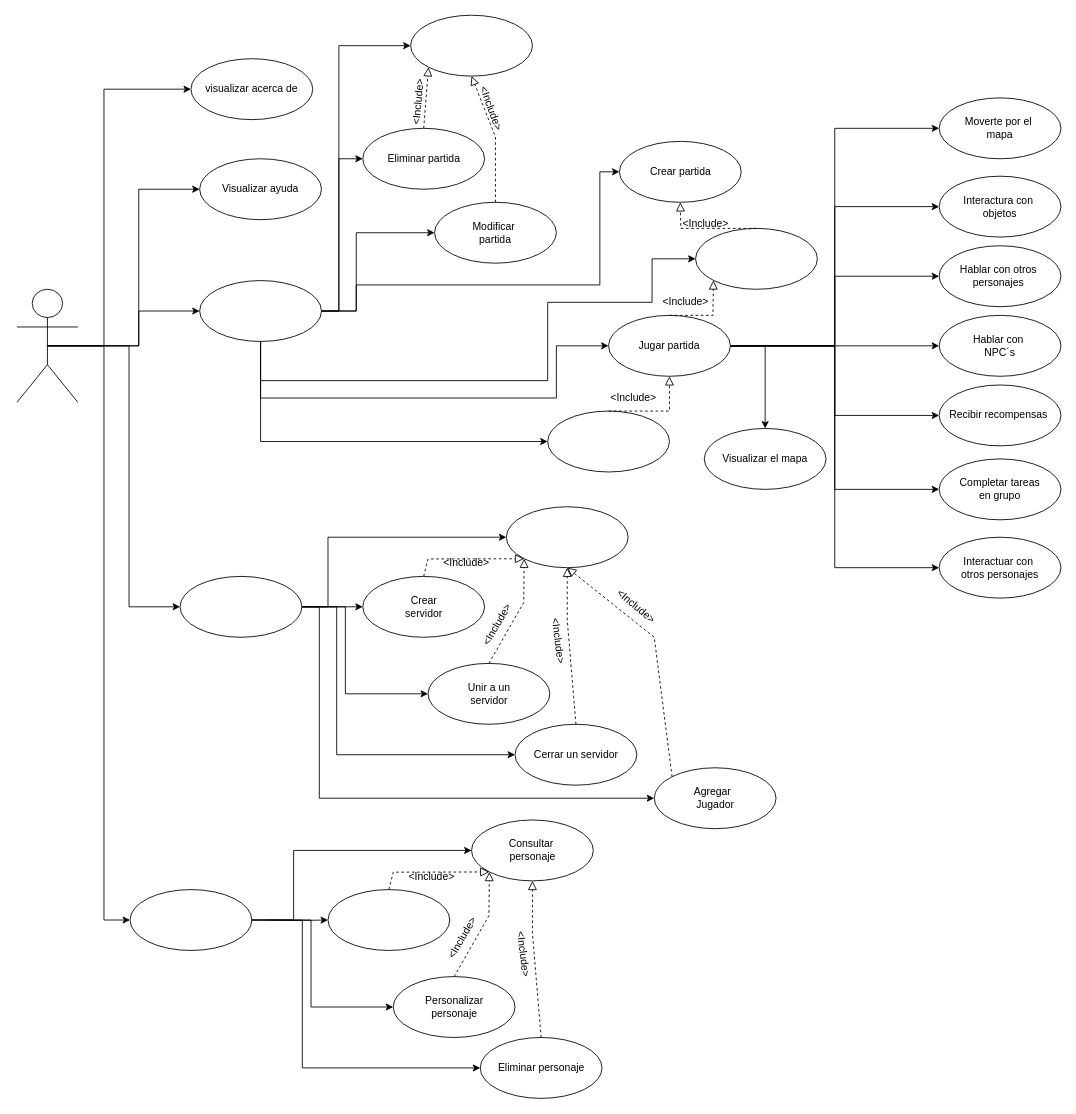
Some shapes in this 1076 by 1114 pixel diagram are drawn without their labels. The shapes that lost their labels are listed below. From the top down, each one's centre as x and y in pixels, then its label:
pixel 471 45: Consultar partida jugada
pixel 756 258: Iniciar una partida
pixel 260 310: Administrar partida
pixel 47 345: Administrador
pixel 608 441: Finalizar partida
pixel 566 537: Consultar servidor
pixel 240 606: Administrar servidor
pixel 190 919: Administrar personaje
pixel 388 919: Crear personaje
